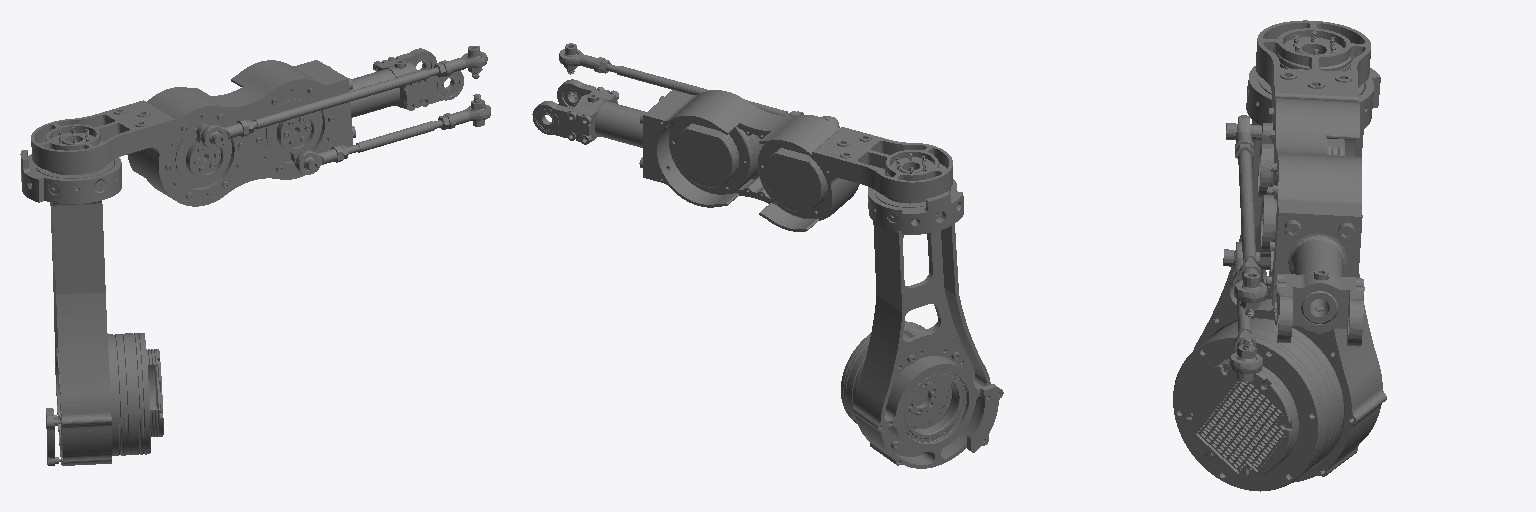
The robot description file, URDF, robot "biped 12-dof robot":
<?xml version="1.0" ?>
<robot name="biped 12-dof robot" version="1.0" xmlns:xacro="http://www.ros.org/wiki/xacro">

<mujoco>
<compiler meshdir="meshes" discardvisual="false" fusestatic="false" />
</mujoco>

  <!-- [CAUTION] Floating base joint commented out - centroidal MPC adds it internally -->
  <!--
  <link name="world"/>
  <joint name="floating_base" type="floating">
    <origin xyz="0.0 0.0 0.86" rpy="0.0 0.0 0.0"/>
    <parent link="world"/>
    <child link="link0_torso"/>
  </joint>
  -->

  <link name="link0_torso">
    <inertial>
      <origin xyz="2.2000000171829015e-05 1.1000000085914508e-05 -0.009359000250697136" rpy="0.0 0.0 0.0"/>
      <mass value="5.7210001945495605"/>
      <inertia ixx="0.13379999995231628" ixy="-7.542255389125785e-06" ixz="8.597635314799845e-06" iyy="0.10189999639987946" iyz="8.566241376684047e-06" izz="0.062780000269413"/>
    </inertial>
    <visual name="Geom_1">
      <origin xyz="7.796032878104597e-05 0.0003180369094479829 0.09691701829433441" rpy="-0.0006628095870837569 -0.0008575216052122414 0.0019874856807291508"/>
      <geometry>
        <mesh filename="package://biped_description/urdf/meshes/link0_torso.stl" scale="1.0 1.0 1.0"/>
      </geometry>
      <material name="Geom_1_material">
        <color rgba="0.5 0.5 0.5 1.0"/>
      </material>
    </visual>
  </link>
  <joint name="left_hip_pitch_joint" type="revolute">
    <origin xyz="0.0 0.08976099640130997 -0.08143699914216995" rpy="-0.26179948449134827 0.0 0.0"/>
    <axis xyz="0.0 1.0 0.0"/>
    <parent link="link0_torso"/>
    <child link="left_hip_pitch_link"/>
    <limit effort="48.0" lower="-1.0471975803375244" upper="1.0471975803375244" velocity="60"/>
  </joint>
  <link name="left_hip_pitch_link">
    <inertial>
      <origin xyz="0.005535000003874302 0.05921800062060356 0.0005789999850094318" rpy="0.0 0.0 0.0"/>
      <mass value="1.7640000581741333"/>
      <inertia ixx="0.003317000111564994" ixy="-0.00015320003149099648" ixz="5.446721388580045e-06" iyy="0.0022869999520480633" iyz="1.1251916021137731e-06" izz="0.0034890000242739916"/>
    </inertial>
    <visual name="Geom_2">
      <origin xyz="0.0016799320001155138 0.055544208735227585 0.000550871598534286" rpy="2.700404167175293 -1.5617526769638062 -1.2133678197860718"/>
      <geometry>
        <mesh filename="package://biped_description/urdf/meshes/left_hip_pitch_link.stl" scale="1.0 1.0 1.0"/>
      </geometry>
      <material name="Geom_2_material">
        <color rgba="0.5 0.5 0.5 1.0"/>
      </material>
    </visual>
  </link>
  <joint name="left_hip_roll_joint" type="revolute">
    <origin xyz="0.0 0.07500000298023224 0.0" rpy="0.2617994248867035 0.0 0.0"/>
    <axis xyz="1.0 0.0 0.0"/>
    <parent link="left_hip_pitch_link"/>
    <child link="left_hip_roll_link"/>
    <limit effort="48.0" lower="-0.7853981852531433" upper="1.0471975803375244" velocity="60"/>
  </joint>
  <link name="left_hip_roll_link">
    <inertial>
      <origin xyz="1.5999999959603883e-05 -0.00013600000238511711 -0.07324100285768509" rpy="0.0 0.0 0.0"/>
      <mass value="1.2918000221252441"/>
      <inertia ixx="0.0023590000346302986" ixy="-9.270930831917212e-07" ixz="-3.4294696433789795e-06" iyy="0.0031530000269412994" iyz="-9.270607961298083e-07" izz="0.001975000137463212"/>
    </inertial>
    <visual name="Geom_3">
      <origin xyz="0.0001687527692411095 -1.7987642422667705e-05 -0.0688067153096199" rpy="0.037721529603004456 0.001062847557477653 1.5703649520874023"/>
      <geometry>
        <mesh filename="package://biped_description/urdf/meshes/left_hip_roll_link.stl" scale="1.0 1.0 1.0"/>
      </geometry>
      <material name="Geom_3_material">
        <color rgba="0.5 0.5 0.5 1.0"/>
      </material>
    </visual>
  </link>
  <joint name="left_hip_yaw_joint" type="revolute">
    <origin xyz="0.0 0.0 -0.12049999833106995" rpy="0.0 0.0 0.0"/>
    <axis xyz="0.0 0.0 1.0"/>
    <parent link="left_hip_roll_link"/>
    <child link="left_hip_yaw_link"/>
    <limit effort="18.0" lower="-0.7853981852531433" upper="0.7853981852531433" velocity="60"/>
  </joint>
  <link name="left_hip_yaw_link">
    <inertial>
      <origin xyz="-0.00031400000443682075 -0.013333999551832676 -0.166035994887352" rpy="0.0 0.0 0.0"/>
      <mass value="1.9830000400543213"/>
      <inertia ixx="0.011649999767541885" ixy="2.6778796382131986e-05" ixz="-3.295916030765511e-05" iyy="0.012079999782145023" iyz="-0.000980800366960466" izz="0.002085000043734908"/>
    </inertial>
    <visual name="Geom_4">
      <origin xyz="-0.0005326419486664236 -0.006594849284738302 -0.13808274269104004" rpy="-0.030977370217442513 0.07224645465612411 1.093213677406311"/>
      <geometry>
        <mesh filename="package://biped_description/urdf/meshes/left_hip_yaw_link.stl" scale="1.0 1.0 1.0"/>
      </geometry>
      <material name="Geom_4_material">
        <color rgba="0.5 0.5 0.5 1.0"/>
      </material>
    </visual>
  </link>
  <joint name="left_knee_pitch_joint" type="revolute">
    <origin xyz="0.0 0.0 -0.20350000262260437" rpy="0.0 0.0 0.0"/>
    <axis xyz="0.0 1.0 0.0"/>
    <parent link="left_hip_yaw_link"/>
    <child link="left_knee_link"/>
    <limit effort="48.0" lower="-0.1745329201221466" upper="2.094395160675049" velocity="60"/>
  </joint>
  <link name="left_knee_link">
    <inertial>
      <origin xyz="0.009700000286102295 0.003585000056773424 -0.16462300717830658" rpy="0.0 0.0 0.0"/>
      <mass value="1.8940000534057617"/>
      <inertia ixx="0.01719999872148037" ixy="3.171512435073964e-05" ixz="0.0008972999639809132" iyy="0.017020000144839287" iyz="-0.0008845999836921692" izz="0.001509999972768128"/>
    </inertial>
    <visual name="Geom_5">
      <origin xyz="0.007206877693533897 0.005291631445288658 -0.1623859703540802" rpy="-0.06277565658092499 -0.03869275376200676 0.017733879387378693"/>
      <geometry>
        <mesh filename="package://biped_description/urdf/meshes/left_knee_link.stl" scale="1.0 1.0 1.0"/>
      </geometry>
      <material name="Geom_5_material">
        <color rgba="0.5 0.5 0.5 1.0"/>
      </material>
    </visual>
  </link>
  <joint name="left_ankle_roll_joint" type="revolute">
    <origin xyz="0.0 0.0 -0.33500000834465027" rpy="0.0 0.0 0.0"/>
    <axis xyz="1.0 0.0 0.0"/>
    <parent link="left_knee_link"/>
    <child link="left_ankle_roll_link"/>
    <limit effort="30.0" lower="-0.2617993950843811" upper="0.2617993950843811" velocity="60"/>
  </joint>
  <link name="left_ankle_roll_link">
    <inertial>
      <origin xyz="0.0 0.0 0.0" rpy="0.0 0.0 0.0"/>
      <mass value="0.0403130017220974"/>
      <inertia ixx="7.009000000834931e-06" ixy="0.0" ixz="0.0" iyy="3.4981039789272472e-06" iyz="0.0" izz="5.125014013174223e-06"/>
    </inertial>
    <visual name="Geom_6">
      <origin xyz="7.51834328127643e-09 -3.053114872031415e-09 6.790588091831751e-09" rpy="3.1415927410125732 -1.5707963705062866 0.0"/>
      <geometry>
        <mesh filename="package://biped_description/urdf/meshes/left_ankle_roll_link.stl" scale="1.0 1.0 1.0"/>
      </geometry>
      <material name="Geom_6_material">
        <color rgba="0.5 0.5 0.5 1.0"/>
      </material>
    </visual>
  </link>
  <joint name="left_ankle_pitch_joint" type="revolute">
    <origin xyz="0.0 0.0 0.0" rpy="0.0 0.0 0.0"/>
    <axis xyz="0.0 1.0 0.0"/>
    <parent link="left_ankle_roll_link"/>
    <child link="left_ankle_pitch_link"/>
    <limit effort="30.0" lower="-0.5235987901687622" upper="0.5235987901687622" velocity="60"/>
  </joint>
  <link name="left_ankle_pitch_link">
    <inertial>
      <origin xyz="0.029106000438332558 0.0 -0.030482999980449677" rpy="0.0 0.0 0.0"/>
      <mass value="0.3432289958000183"/>
      <inertia ixx="0.00015459998394362628" ixy="-9.970007930348856e-09" ixz="5.023086123401299e-05" iyy="0.0008769999840296805" iyz="4.03599820231193e-08" izz="0.000943399965763092"/>
    </inertial>
    <visual name="Geom_7">
      <origin xyz="0.025211697444319725 6.096259767218726e-06 -0.025258200243115425" rpy="3.1398637294769287 -1.4636694192886353 0.0015234557213261724"/>
      <geometry>
        <mesh filename="package://biped_description/urdf/meshes/left_ankle_pitch_link.stl" scale="1.0 1.0 1.0"/>
      </geometry>
      <material name="Geom_7_material">
        <color rgba="0.5 0.5 0.5 1.0"/>
      </material>
    </visual>
  </link>
  <joint name="right_hip_pitch_joint" type="revolute">
    <origin xyz="0.0 -0.08976099640130997 -0.08143699914216995" rpy="0.26179948449134827 0.0 0.0"/>
    <axis xyz="0.0 1.0 0.0"/>
    <parent link="link0_torso"/>
    <child link="right_hip_pitch_link"/>
    <limit effort="48.0" lower="-1.0471975803375244" upper="1.0471975803375244" velocity="60"/>
  </joint>
  <link name="right_hip_pitch_link">
    <inertial>
      <origin xyz="0.005578999873250723 -0.059769999235868454 0.0005810000002384186" rpy="0.0 0.0 0.0"/>
      <mass value="1.7640000581741333"/>
      <inertia ixx="0.0032450000289827585" ixy="0.00014780001947656274" ixz="5.415223768068245e-06" iyy="0.0022849999368190765" iyz="-1.7387062598572811e-06" izz="0.0034169999416917562"/>
    </inertial>
    <visual name="Geom_8">
      <origin xyz="0.000859422842040658 -0.057270146906375885 0.0005347120459191501" rpy="0.1750001609325409 -1.5643666982650757 1.4342265129089355"/>
      <geometry>
        <mesh filename="package://biped_description/urdf/meshes/right_hip_pitch_link.stl" scale="1.0 1.0 1.0"/>
      </geometry>
      <material name="Geom_8_material">
        <color rgba="0.5 0.5 0.5 1.0"/>
      </material>
    </visual>
  </link>
  <joint name="right_hip_roll_joint" type="revolute">
    <origin xyz="0.0 -0.07500000298023224 0.0" rpy="-0.2617994248867035 0.0 0.0"/>
    <axis xyz="1.0 0.0 0.0"/>
    <parent link="right_hip_pitch_link"/>
    <child link="right_hip_roll_link"/>
    <limit effort="48.0" lower="-1.0471975803375244" upper="0.6108652353286743" velocity="60"/>
  </joint>
  <link name="right_hip_roll_link">
    <inertial>
      <origin xyz="1.5999999959603883e-05 -0.00013600000238511711 -0.07324100285768509" rpy="0.0 0.0 0.0"/>
      <mass value="1.2918000221252441"/>
      <inertia ixx="0.0023590000346302986" ixy="-9.270930831917212e-07" ixz="-3.4294696433789795e-06" iyy="0.0031530000269412994" iyz="-9.270607961298083e-07" izz="0.001975000137463212"/>
    </inertial>
    <visual name="Geom_9">
      <origin xyz="0.00023425206018146127 -6.413497430912685e-06 -0.06885075569152832" rpy="0.04643318057060242 0.0006989742978475988 1.5703041553497314"/>
      <geometry>
        <mesh filename="package://biped_description/urdf/meshes/right_hip_roll_link.stl" scale="1.0 1.0 1.0"/>
      </geometry>
      <material name="Geom_9_material">
        <color rgba="0.5 0.5 0.5 1.0"/>
      </material>
    </visual>
  </link>
  <joint name="right_hip_yaw_joint" type="revolute">
    <origin xyz="0.0 0.0 -0.12049999833106995" rpy="0.0 0.0 0.0"/>
    <axis xyz="0.0 0.0 1.0"/>
    <parent link="right_hip_roll_link"/>
    <child link="right_hip_yaw_link"/>
    <limit effort="18.0" lower="-0.7853981852531433" upper="0.7853981852531433" velocity="60"/>
  </joint>
  <link name="right_hip_yaw_link">
    <inertial>
      <origin xyz="-2.9000000722589903e-05 0.013844000175595284 -0.16547299921512604" rpy="0.0 0.0 0.0"/>
      <mass value="1.9830000400543213"/>
      <inertia ixx="0.011639999225735664" ixy="2.389976998529164e-06" ixz="-1.0329849828849547e-06" iyy="0.012079998850822449" iyz="0.0009596053278073668" izz="0.0020090010948479176"/>
    </inertial>
    <visual name="Geom_10">
      <origin xyz="-0.00012431660434231162 0.00806157011538744 -0.13632270693778992" rpy="0.006456583272665739 -0.06762170791625977 1.4874911308288574"/>
      <geometry>
        <mesh filename="package://biped_description/urdf/meshes/right_hip_yaw_link.stl" scale="1.0 1.0 1.0"/>
      </geometry>
      <material name="Geom_10_material">
        <color rgba="0.5 0.5 0.5 1.0"/>
      </material>
    </visual>
  </link>
  <joint name="right_knee_pitch_joint" type="revolute">
    <origin xyz="0.0 0.0 -0.20350000262260437" rpy="0.0 0.0 0.0"/>
    <axis xyz="0.0 1.0 0.0"/>
    <parent link="right_hip_yaw_link"/>
    <child link="right_knee_link"/>
    <limit effort="48.0" lower="-0.1745329201221466" upper="2.094395160675049" velocity="60"/>
  </joint>
  <link name="right_knee_link">
    <inertial>
      <origin xyz="0.009336000308394432 -0.0037609999999403954 -0.1630380004644394" rpy="0.0 0.0 0.0"/>
      <mass value="1.878999948501587"/>
      <inertia ixx="0.016529999673366547" ixy="-3.5348526580492035e-05" ixz="0.0007737999549135566" iyy="0.016330000013113022" iyz="0.0008795000030659139" izz="0.0014799999771639705"/>
    </inertial>
    <visual name="Geom_11">
      <origin xyz="0.006512644235044718 -0.00538110313937068 -0.16000472009181976" rpy="0.06655730307102203 -0.025580722838640213 -0.08777308464050293"/>
      <geometry>
        <mesh filename="package://biped_description/urdf/meshes/right_knee_link.stl" scale="1.0 1.0 1.0"/>
      </geometry>
      <material name="Geom_11_material">
        <color rgba="0.5 0.5 0.5 1.0"/>
      </material>
    </visual>
  </link>
  <joint name="right_ankle_roll_joint" type="revolute">
    <origin xyz="0.0 0.0 -0.33500000834465027" rpy="0.0 0.0 0.0"/>
    <axis xyz="1.0 0.0 0.0"/>
    <parent link="right_knee_link"/>
    <child link="right_ankle_roll_link"/>
    <limit effort="30.0" lower="-0.2617993950843811" upper="0.2617993950843811" velocity="60"/>
  </joint>
  <link name="right_ankle_roll_link">
    <inertial>
      <origin xyz="0.0 0.0 0.0" rpy="0.0 0.0 0.0"/>
      <mass value="0.0403130017220974"/>
      <inertia ixx="7.009000000834931e-06" ixy="0.0" ixz="0.0" iyy="3.4981039789272472e-06" iyz="0.0" izz="5.125014013174223e-06"/>
    </inertial>
    <visual name="Geom_12">
      <origin xyz="2.6743753096525325e-06 7.25847314697603e-07 5.631850399367977e-07" rpy="3.1415927410125732 -1.5707963705062866 0.0"/>
      <geometry>
        <mesh filename="package://biped_description/urdf/meshes/right_ankle_roll_link.stl" scale="1.0 1.0 1.0"/>
      </geometry>
      <material name="Geom_12_material">
        <color rgba="0.5 0.5 0.5 1.0"/>
      </material>
    </visual>
  </link>
  <joint name="right_ankle_pitch_joint" type="revolute">
    <origin xyz="0.0 0.0 0.0" rpy="0.0 0.0 0.0"/>
    <axis xyz="0.0 1.0 0.0"/>
    <parent link="right_ankle_roll_link"/>
    <child link="right_ankle_pitch_link"/>
    <limit effort="30.0" lower="-0.5235987901687622" upper="0.5235987901687622" velocity="60"/>
  </joint>
  <link name="right_ankle_pitch_link">
    <inertial>
      <origin xyz="0.029106000438332558 0.0 -0.030482999980449677" rpy="0.0 0.0 0.0"/>
      <mass value="0.3432289958000183"/>
      <inertia ixx="0.00015459998394362628" ixy="-9.970007930348856e-09" ixz="5.023086123401299e-05" iyy="0.0008769999840296805" iyz="4.03599820231193e-08" izz="0.000943399965763092"/>
    </inertial>
    <visual name="Geom_13">
      <origin xyz="0.025210782885551453 4.675240234064404e-06 -0.025255193933844566" rpy="3.1390786170959473 -1.4636704921722412 0.0023017171770334244"/>
      <geometry>
        <mesh filename="package://biped_description/urdf/meshes/right_ankle_pitch_link.stl" scale="1.0 1.0 1.0"/>
      </geometry>
      <material name="Geom_13_material">
        <color rgba="0.5 0.5 0.5 1.0"/>
      </material>
    </visual>
  </link>
</robot>

--- What the picture shows (computed from the rendered views, not written in the file) ---
3 views of the same robot in one strip: view 1: azimuth 30°, elevation 25°; view 2: azimuth 150°, elevation 25°; view 3: azimuth 270°, elevation 25° (orthographic).
Robot: biped 12-dof robot — 13 links, 12 joints (12 revolute); root link link0_torso; default pose: all joints at 0.
Visible links, largest first — view 1: left_knee_link, left_hip_yaw_link; view 2: left_knee_link, left_hip_yaw_link; view 3: left_knee_link, left_hip_yaw_link.
Link boxes in pixels (bbox=[...]): left_knee_link: bbox=[31, 46, 490, 206]; left_hip_yaw_link: bbox=[20, 127, 163, 465]; left_knee_link: bbox=[532, 43, 952, 231]; left_hip_yaw_link: bbox=[841, 153, 1003, 468]; left_knee_link: bbox=[1223, 20, 1370, 381]; left_hip_yaw_link: bbox=[1173, 31, 1386, 491].
Size in the robot's own frame: 419 by 127 by 293 metres.
Meshes: 13 distinct files referenced, 7 mesh visuals loaded (7 binary STL); not drawn: 6 (reference not matched to a file when rendering).
